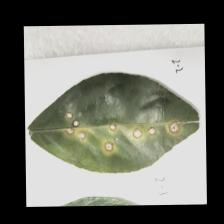canker: (59, 107, 185, 153)
